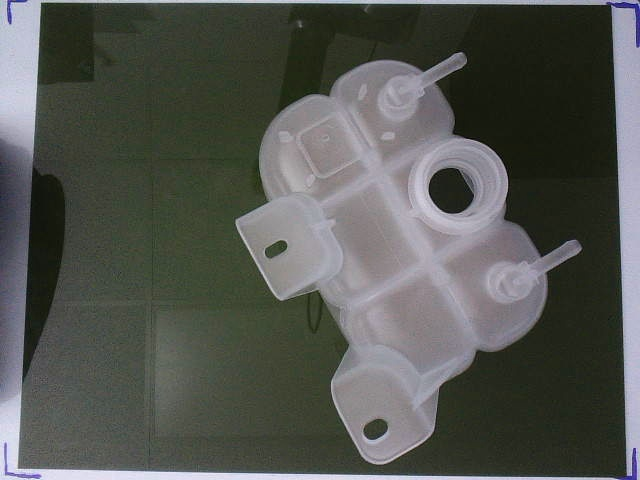reservoir_transparent_Top: (234, 52, 581, 464)
